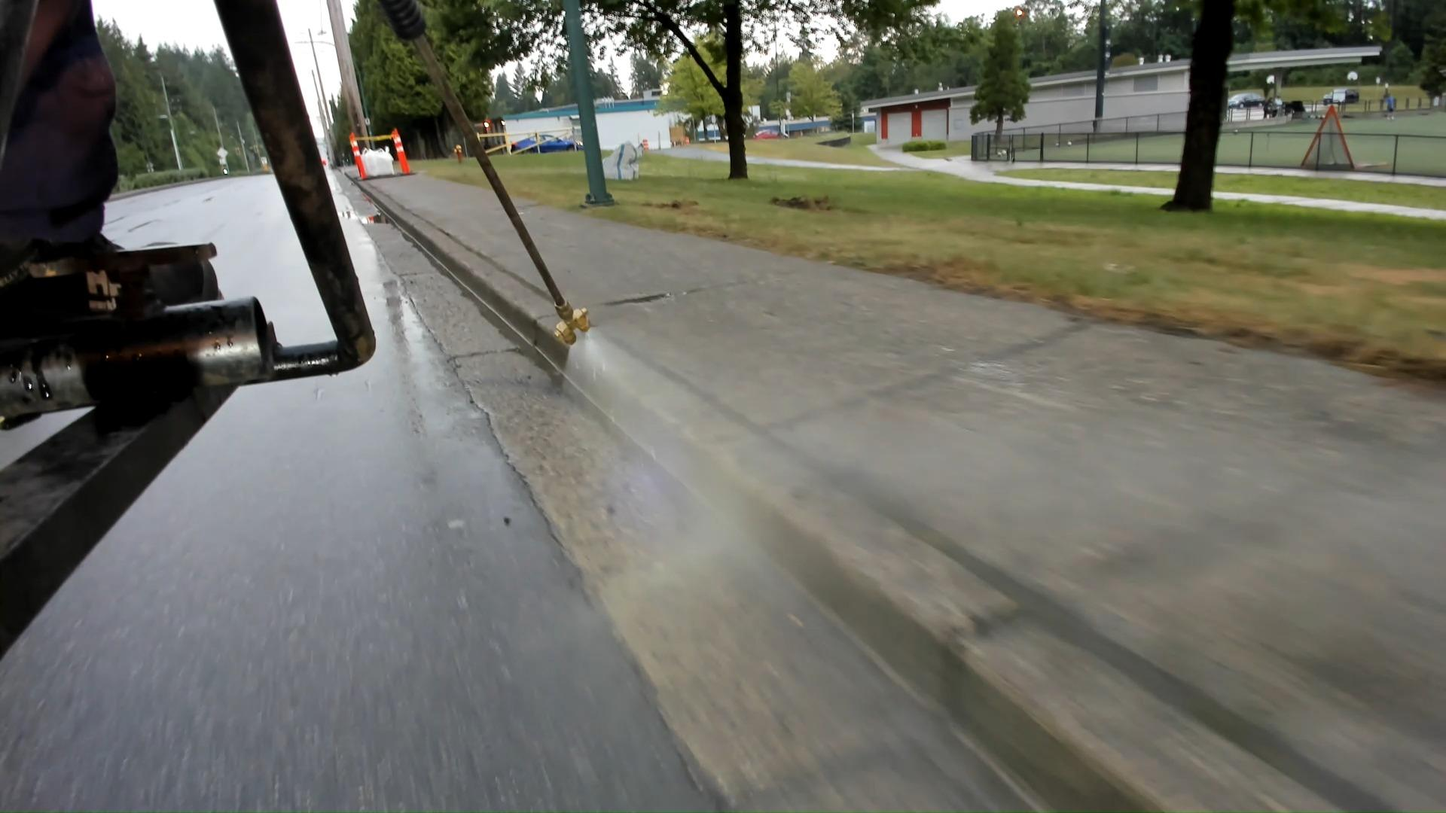weeds: (473, 248, 482, 256)
